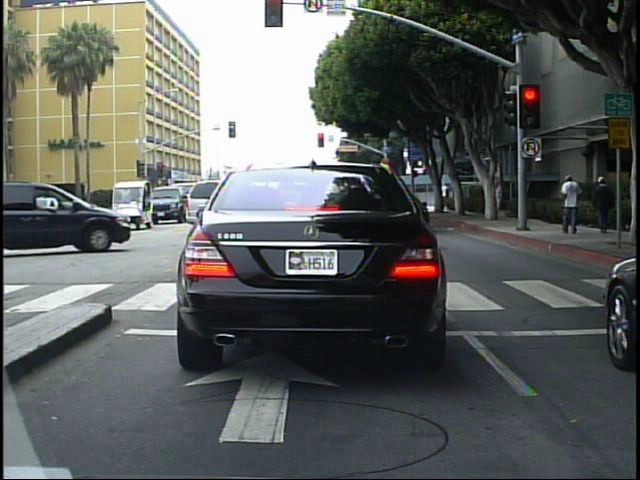person: (559, 170, 588, 235), (591, 167, 615, 236), (493, 179, 506, 218), (437, 179, 452, 212)
